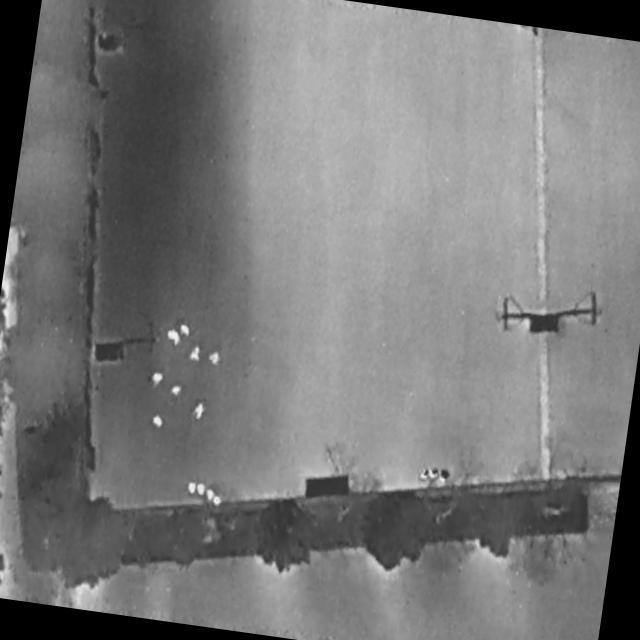person: (194, 401, 207, 421), (167, 329, 181, 347), (152, 371, 164, 390), (191, 345, 204, 362), (209, 350, 222, 366), (153, 414, 166, 428), (181, 323, 193, 337), (173, 384, 183, 396)
